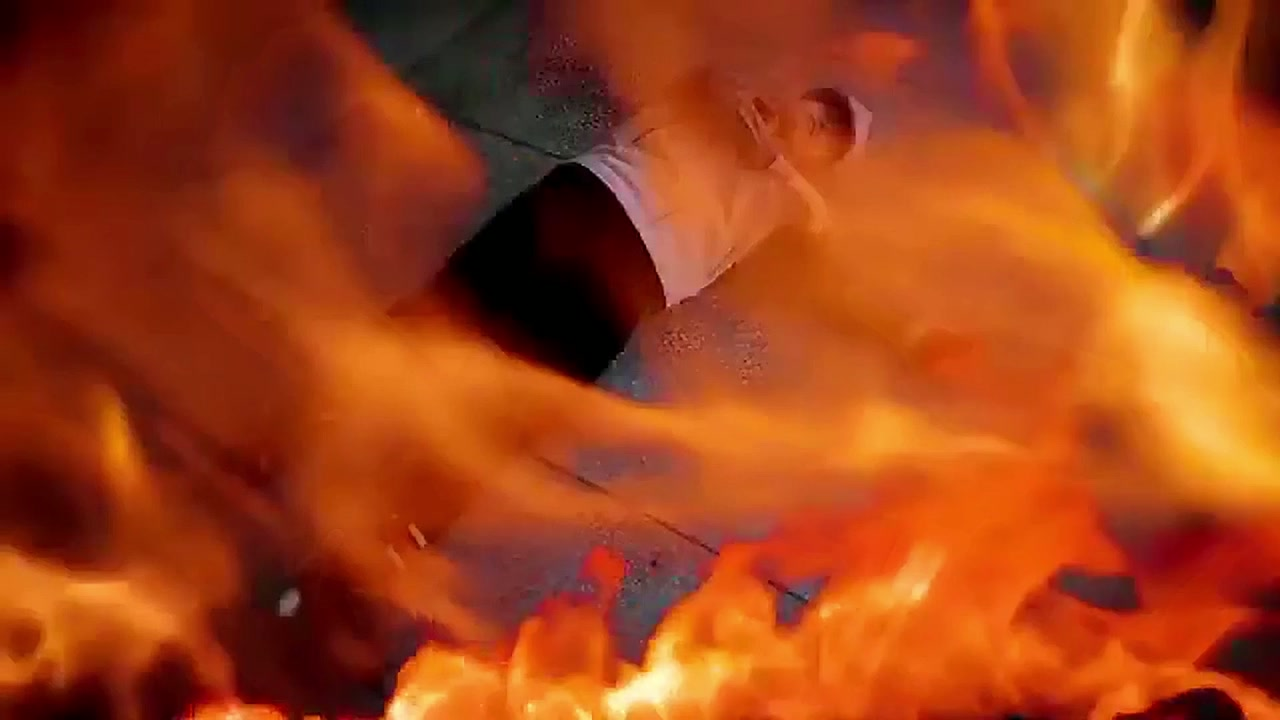fire: (832, 468, 1216, 684)
